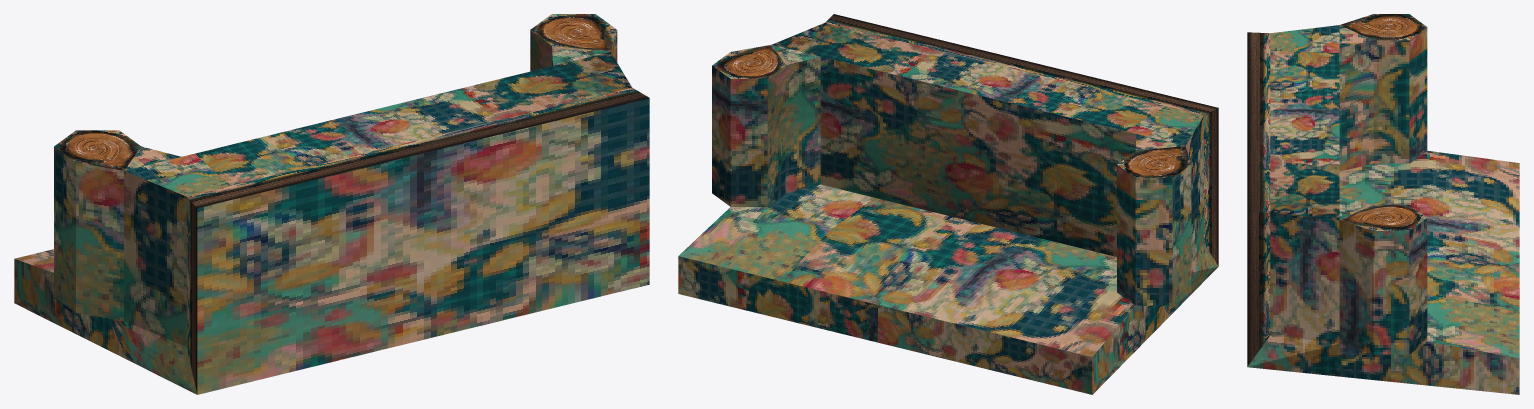
Rendered from double_sofa.glb.
3 views of the same model, side by side, from view 1: azimuth 30°, elevation 25°; view 2: azimuth 150°, elevation 25°; view 3: azimuth 270°, elevation 25° (orthographic). The views are drawn at different scales.
Visible parts, largest first — view 1: double_sofa; view 2: double_sofa; view 3: double_sofa.
Boxes of the visible parts, x1,y1,x2,y2 form: double_sofa: (14, 14, 649, 394); double_sofa: (678, 14, 1218, 394); double_sofa: (1247, 14, 1519, 394).
Bounding box in the file's own units: 2.31 × 0.868 × 1.23.
Materials: 1 (1 with a texture image).
